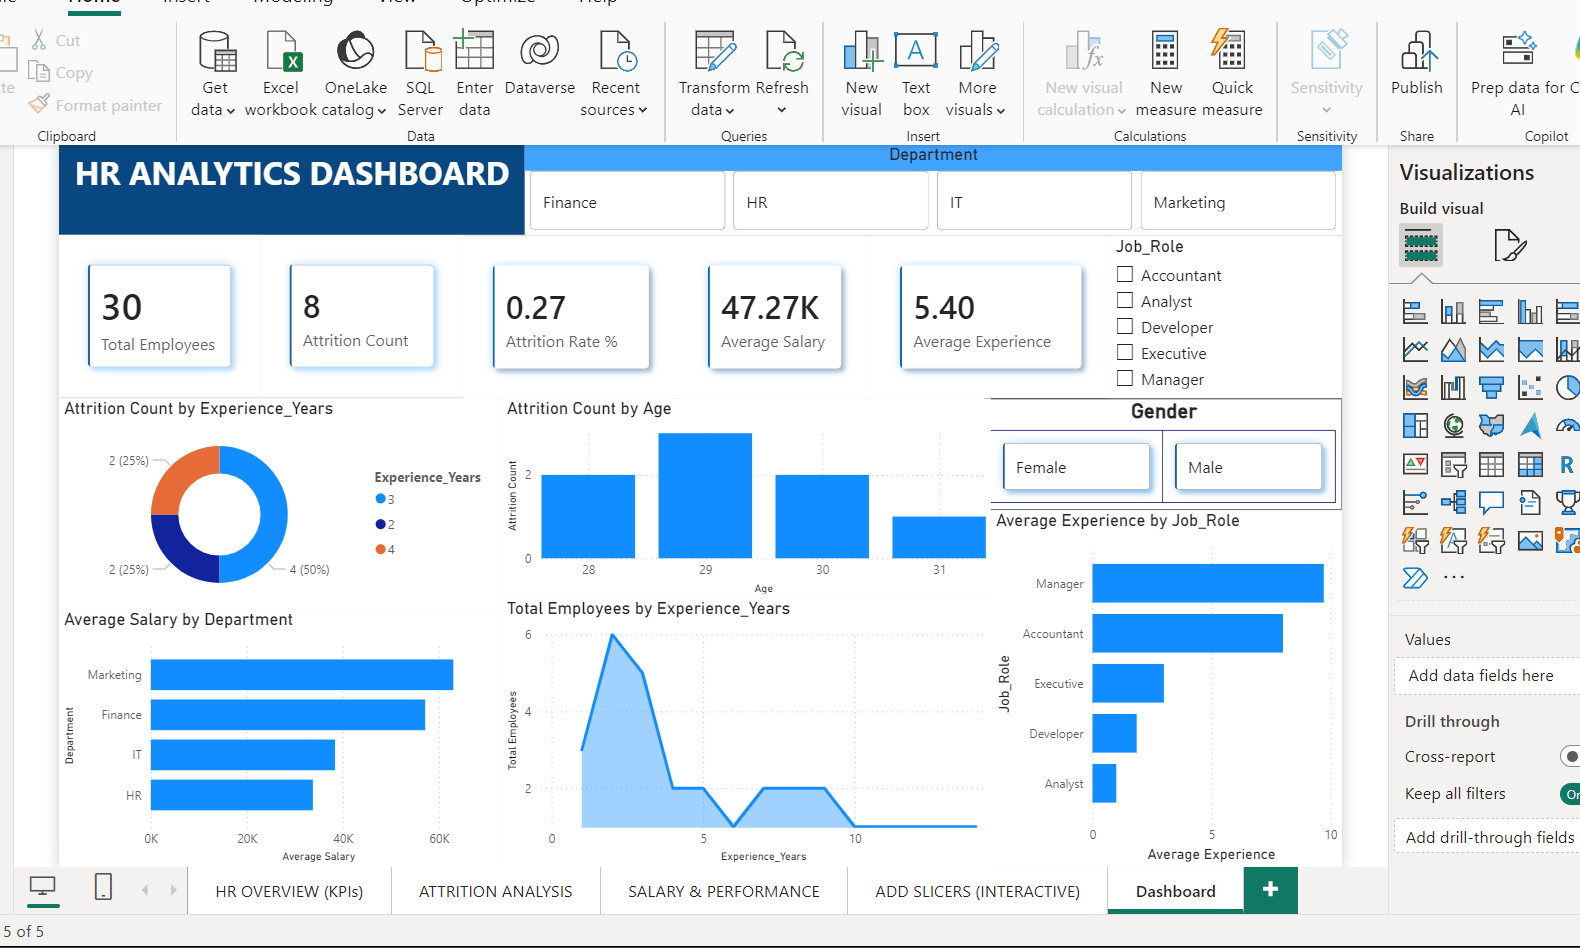

This screenshot's page, from the dashboard's own definition file:
{"tool":"powerbi","page":{"name":"Dashboard","canvas":[1280,720],"ordinal":4},"visuals":[{"type":"cardVisual","fields":{"Data":["HR_Analytics_Dataset.Attrition Count"]},"box":[201.2,89.7,202.6,161.8],"z":0},{"type":"textbox","box":[0,0,464.9,89.7],"z":1000},{"type":"cardVisual","fields":{"Data":["HR_Analytics_Dataset.Attrition Rate %"]},"box":[403.7,91.1,214.8,161.8],"z":2000},{"type":"cardVisual","fields":{"Data":["HR_Analytics_Dataset.Total Employees"]},"box":[0,89.7,201.2,161.8],"z":3000},{"type":"cardVisual","fields":{"Data":["HR_Analytics_Dataset.Average Salary"]},"box":[618.5,91.1,191.7,161.8],"z":4000},{"type":"cardVisual","fields":{"Data":["HR_Analytics_Dataset.Average Experience"]},"box":[810.2,91.1,239.3,161.8],"z":5000},{"type":"advancedSlicerVisual","fields":{"Values":["HR_Analytics_Dataset.Gender"]},"box":[923,252.9,357.5,111.5],"z":6000},{"type":"clusteredBarChart","fields":{"Category":["HR_Analytics_Dataset.Department"],"Y":["HR_Analytics_Dataset.Average Salary"]},"box":[0,463.6,441.8,256.9],"z":7000},{"type":"clusteredBarChart","fields":{"Category":["HR_Analytics_Dataset.Job_Role"],"Y":["HR_Analytics_Dataset.Average Experience"]},"box":[929.8,364.3,350.7,356.2],"z":8000},{"type":"advancedSlicerVisual","fields":{"Values":["HR_Analytics_Dataset.Department"]},"box":[464.9,0,815.6,89.7],"z":9000},{"type":"donutChart","fields":{"Category":["HR_Analytics_Dataset.Experience_Years"],"Y":["HR_Analytics_Dataset.Attrition Count"]},"box":[0,252.9,441.8,210.7],"z":10000},{"type":"listSlicer","fields":{"Values":["HR_Analytics_Dataset.Job_Role"]},"box":[1049.5,91.1,231.1,161.8],"z":11000},{"type":"columnChart","fields":{"Category":["HR_Analytics_Dataset.Age"],"Y":["HR_Analytics_Dataset.Attrition Count"]},"box":[441.8,252.9,488,199.8],"z":12000},{"type":"areaChart","fields":{"Category":["HR_Analytics_Dataset.Experience_Years"],"Y":["HR_Analytics_Dataset.Total Employees"]},"box":[441.8,452.7,488,267.8],"z":13000}]}

Visuals, with their boxes on the page's 1280x720 design canvas (x1, y1, x2, y2). These are canvas units, not pixel positions in the 1580x948 screenshot, which may show the page scaled, cropped or inside an application window:
cardVisual - HR_Analytics_Dataset.Attrition Count: [left=201, top=90, right=404, bottom=252]
textbox: [left=0, top=0, right=465, bottom=90]
cardVisual - HR_Analytics_Dataset.Attrition Rate %: [left=404, top=91, right=618, bottom=253]
cardVisual - HR_Analytics_Dataset.Total Employees: [left=0, top=90, right=201, bottom=252]
cardVisual - HR_Analytics_Dataset.Average Salary: [left=618, top=91, right=810, bottom=253]
cardVisual - HR_Analytics_Dataset.Average Experience: [left=810, top=91, right=1050, bottom=253]
advancedSlicerVisual - HR_Analytics_Dataset.Gender: [left=923, top=253, right=1280, bottom=364]
clusteredBarChart - HR_Analytics_Dataset.Department x HR_Analytics_Dataset.Average Salary: [left=0, top=464, right=442, bottom=720]
clusteredBarChart - HR_Analytics_Dataset.Job_Role x HR_Analytics_Dataset.Average Experience: [left=930, top=364, right=1280, bottom=720]
advancedSlicerVisual - HR_Analytics_Dataset.Department: [left=465, top=0, right=1280, bottom=90]
donutChart - HR_Analytics_Dataset.Experience_Years x HR_Analytics_Dataset.Attrition Count: [left=0, top=253, right=442, bottom=464]
listSlicer - HR_Analytics_Dataset.Job_Role: [left=1050, top=91, right=1281, bottom=253]
columnChart - HR_Analytics_Dataset.Age x HR_Analytics_Dataset.Attrition Count: [left=442, top=253, right=930, bottom=453]
areaChart - HR_Analytics_Dataset.Experience_Years x HR_Analytics_Dataset.Total Employees: [left=442, top=453, right=930, bottom=720]
